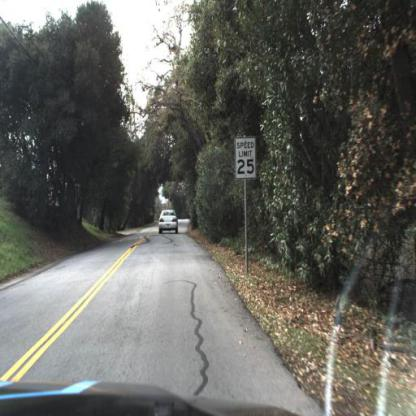car: (157, 206, 181, 238)
